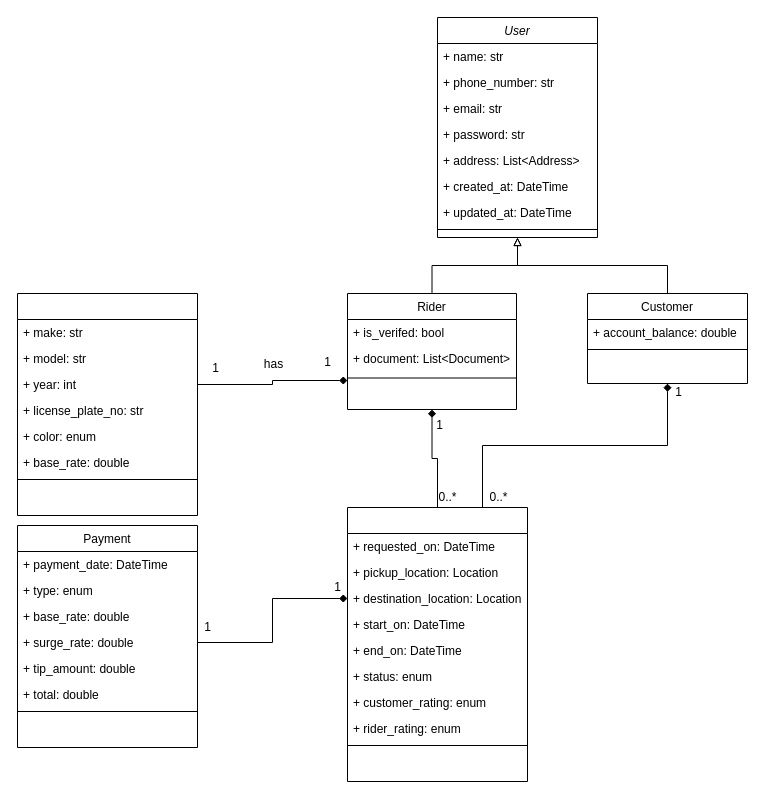
This 765x802 diagram has some shape labels left out. Each missing label, with the box of its shape:
Car: (16, 292, 198, 516)
Trip: (346, 506, 528, 782)
